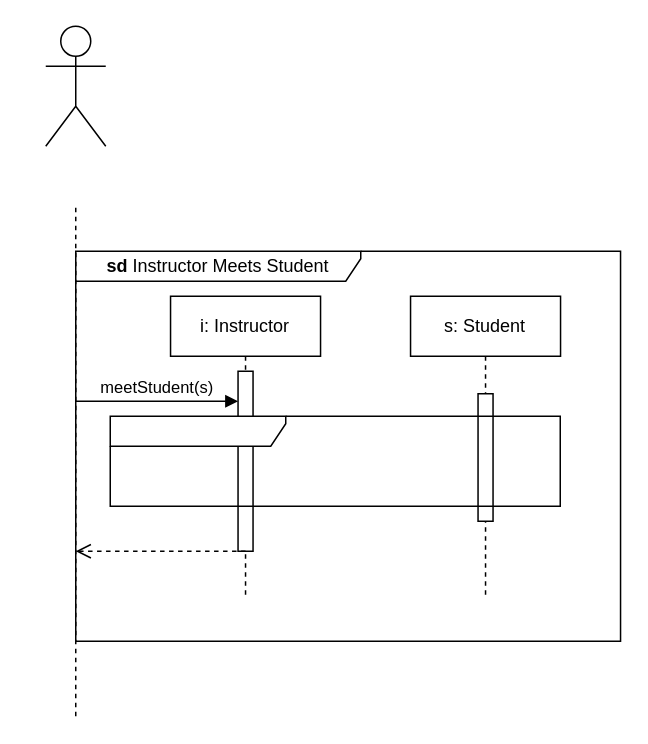
Some shapes in this 648 by 744 pixel diagram are drawn without their labels. The centre of each missing label's shape, as x and y in pixels:
"<<internal>> :Player" belongs at pixel 75 85.
"ref Student Die" belongs at pixel 334 460.
